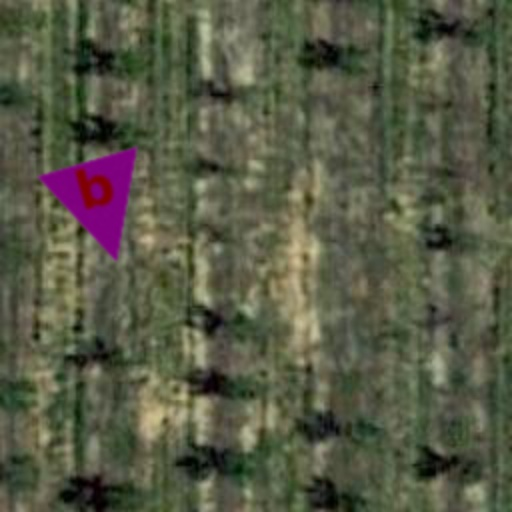triangle: (36, 146, 168, 278)
